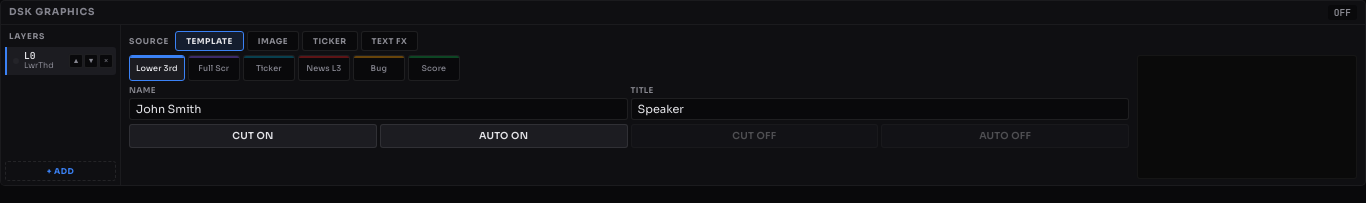
Scenario: GraphicsPanel › should show ticker controls after clicking TICKER mode
What coordinates should you click on to do the following:
click the button with class "mode-btn" showing "TICKER"
I would click on:
 (330, 41)
Its box is [302,31,358,51].
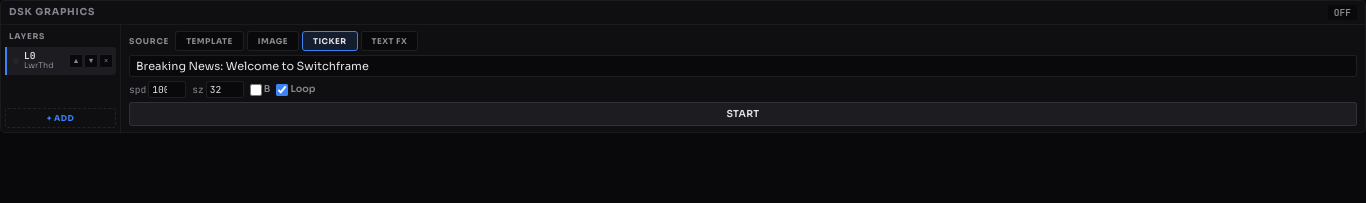
Check: the button with class "act-btn" is shown, box [129,102,1357,126]
